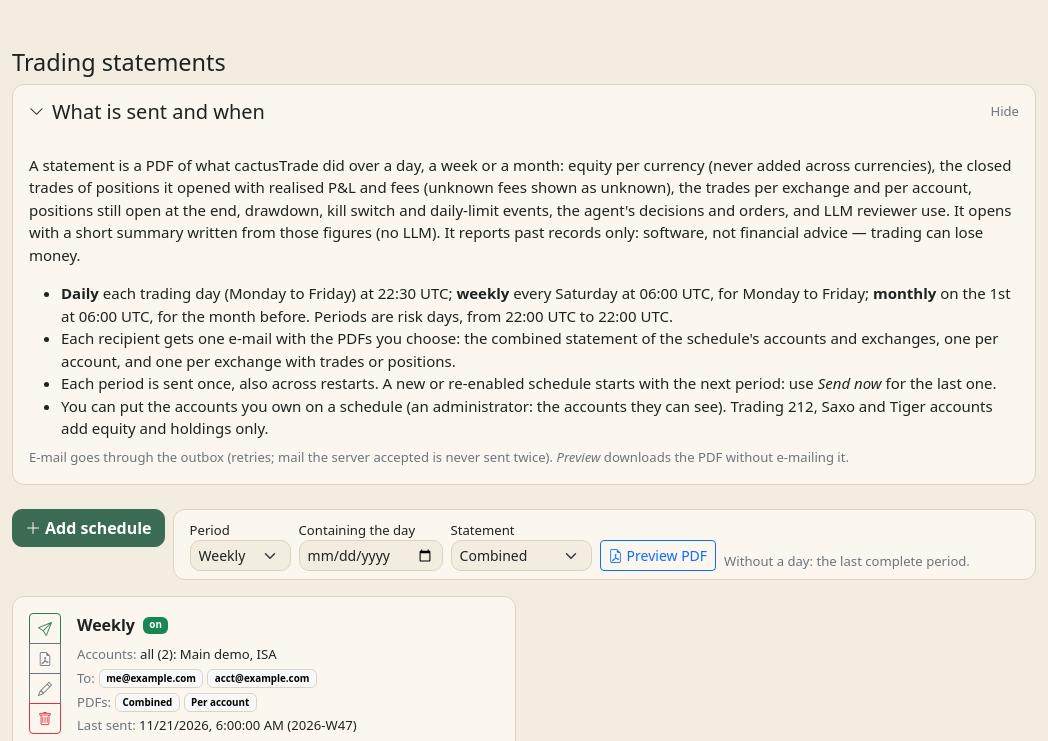
it: TradingStatements › shows a refused send with the server's fix
The width and height of the screenshot is (1048, 741).
Click the button named "Send now:" at (45, 629), box [29,613,61,644]
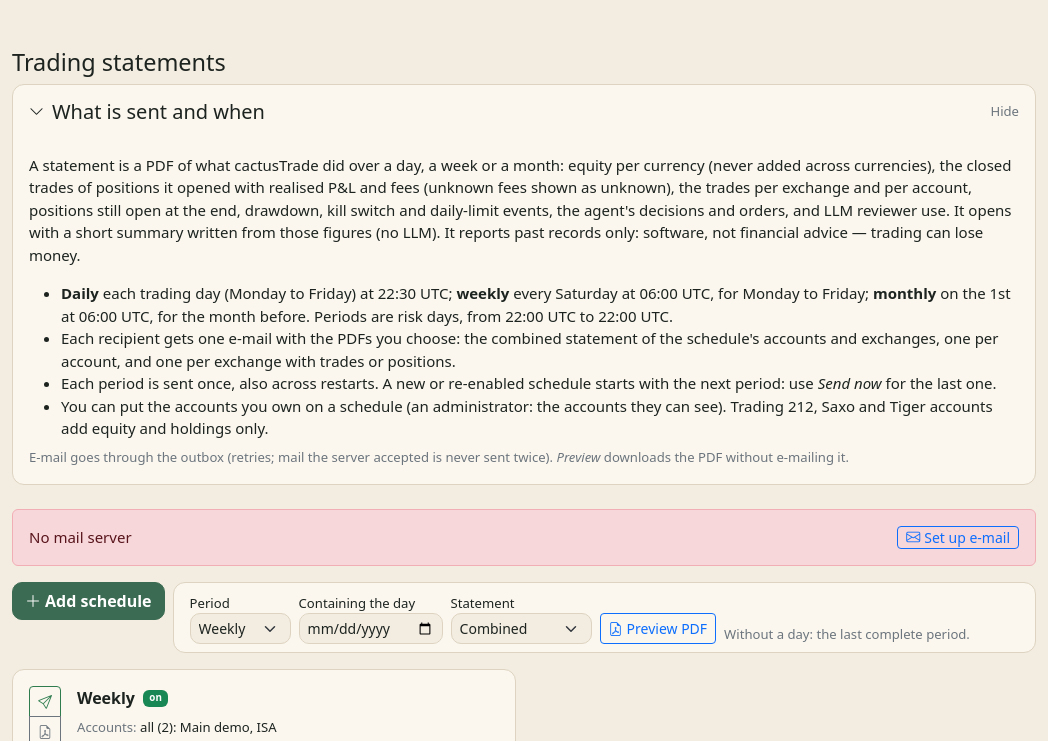
Expected: the text "No mail server" is shown, [29,527,132,547]
Expected: the link "Set up e-mail" is shown, [897,526,1019,549]
